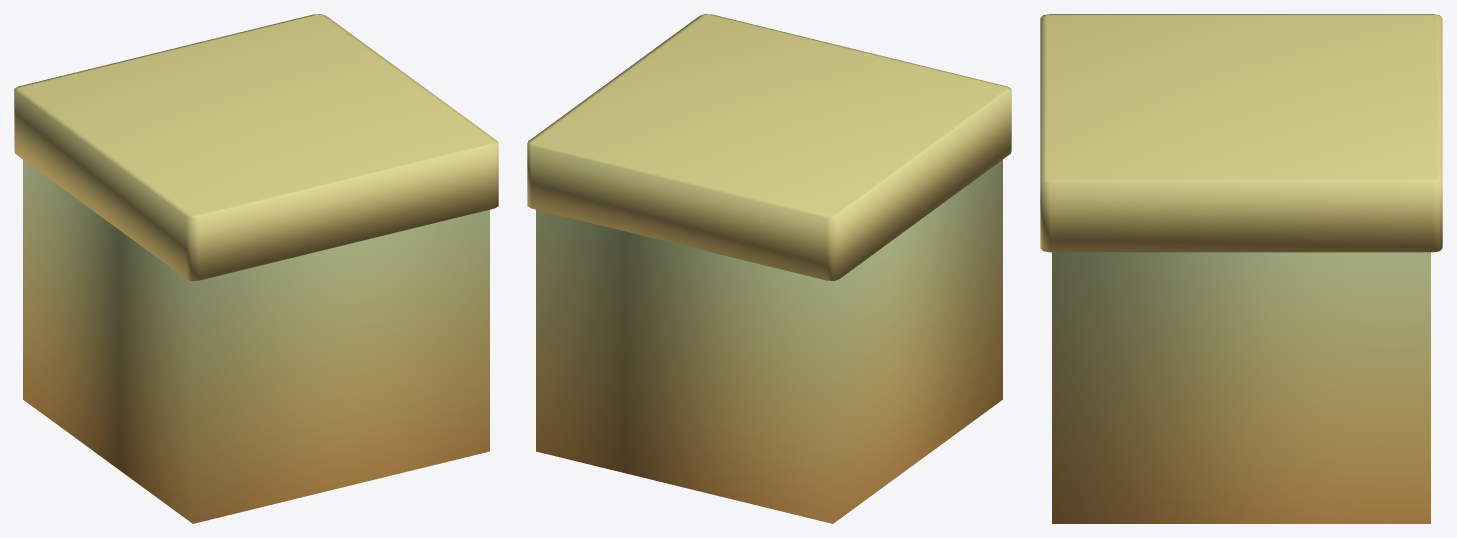
File: mesh_filing_crate_002.fbx
The picture shows the model from 3 angles, left to right: view 1: azimuth 30°, elevation 25°; view 2: azimuth 150°, elevation 25°; view 3: azimuth 270°, elevation 25°; orthographic projection. The views are drawn at different scales.
Parts seen in each view (by area): view 1: filing_crate; view 2: filing_crate; view 3: filing_crate.
Part boxes in pixels (x1,y1,x2,y2): filing_crate: [14, 14, 498, 523]; filing_crate: [527, 14, 1011, 523]; filing_crate: [1040, 14, 1442, 523].
Bounding box in the file's own units: 64.57 × 61.52 × 64.87.
